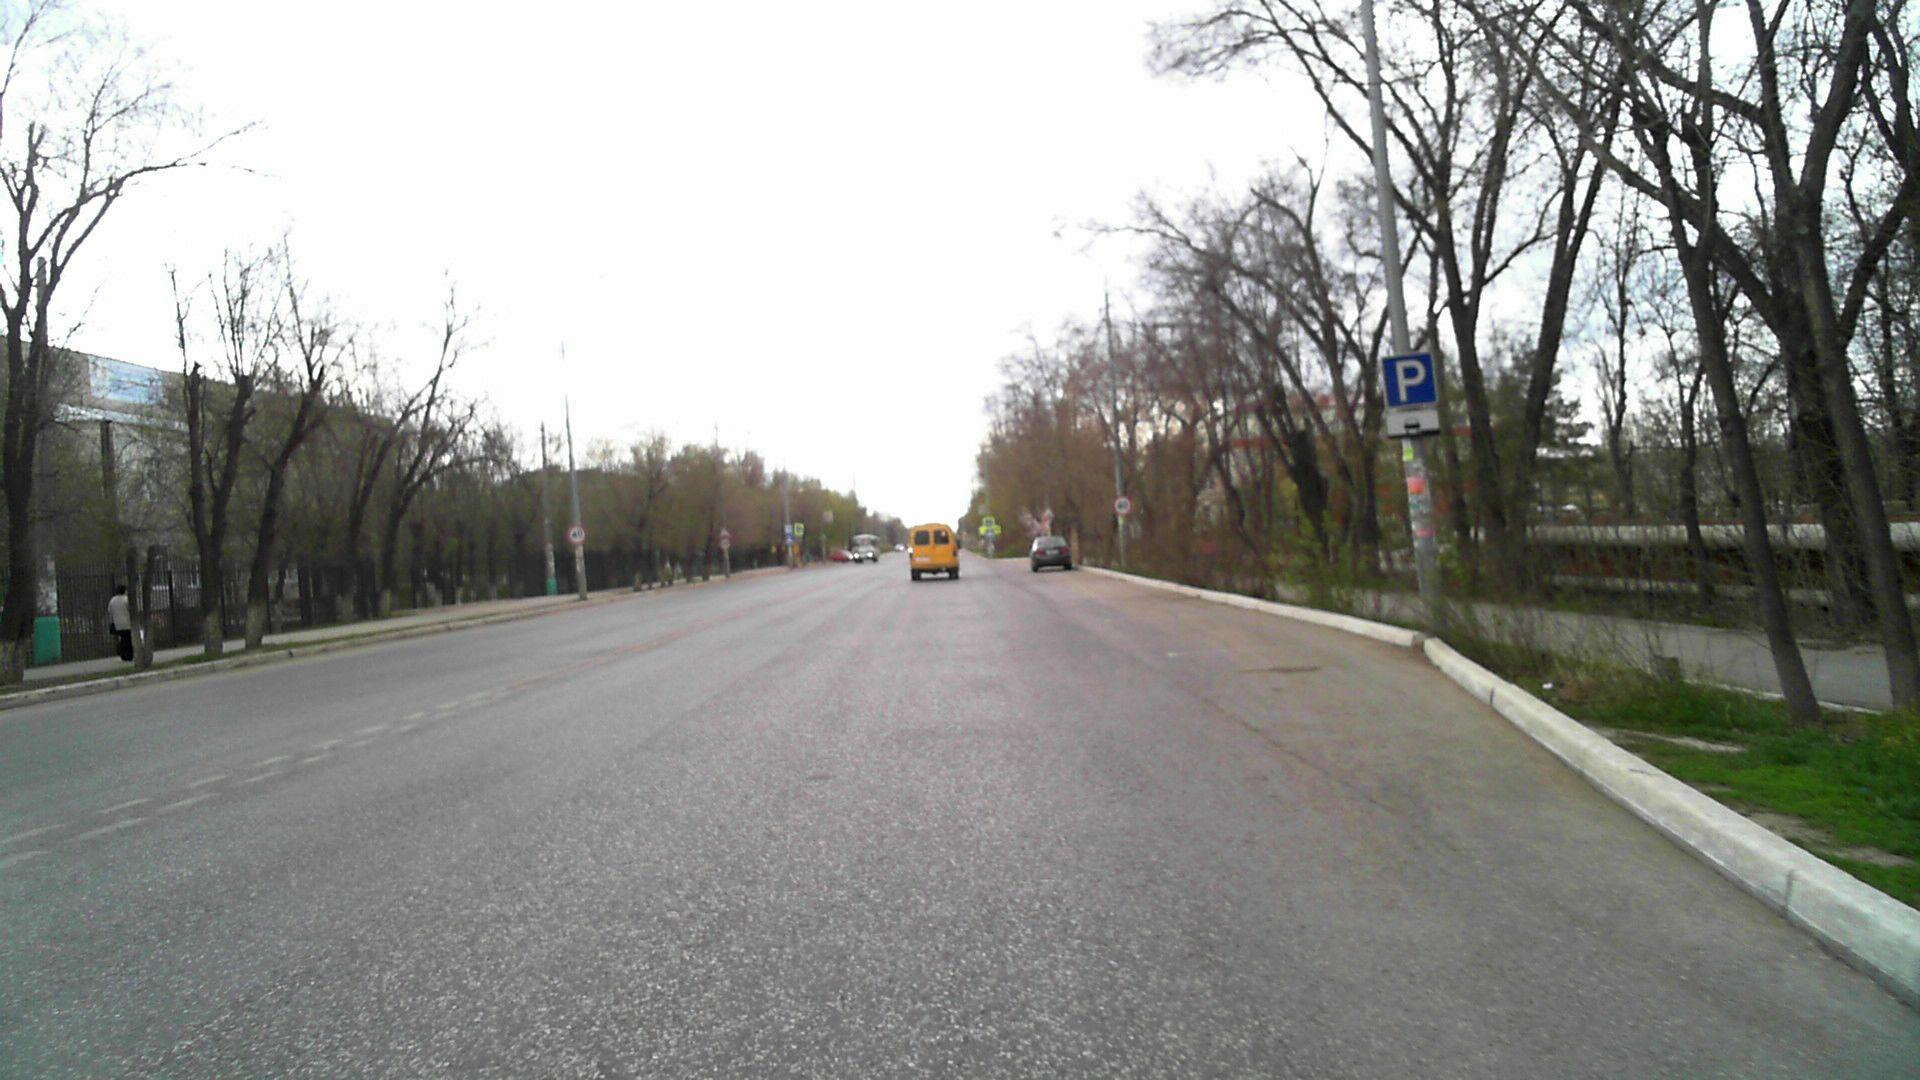1_17: (719, 527, 731, 537), (1043, 509, 1055, 518)
3_24: (568, 524, 588, 543), (1114, 493, 1131, 513), (720, 538, 731, 549)
5_19_1: (985, 518, 993, 527)
5_19_2: (796, 525, 803, 531)
5_20: (985, 529, 996, 538), (785, 535, 794, 545)
6_4: (1381, 352, 1439, 406)
8_6_1: (1386, 407, 1440, 436)
